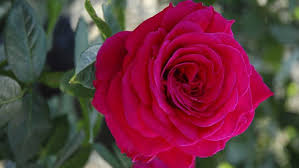rose: (87, 2, 277, 168)
